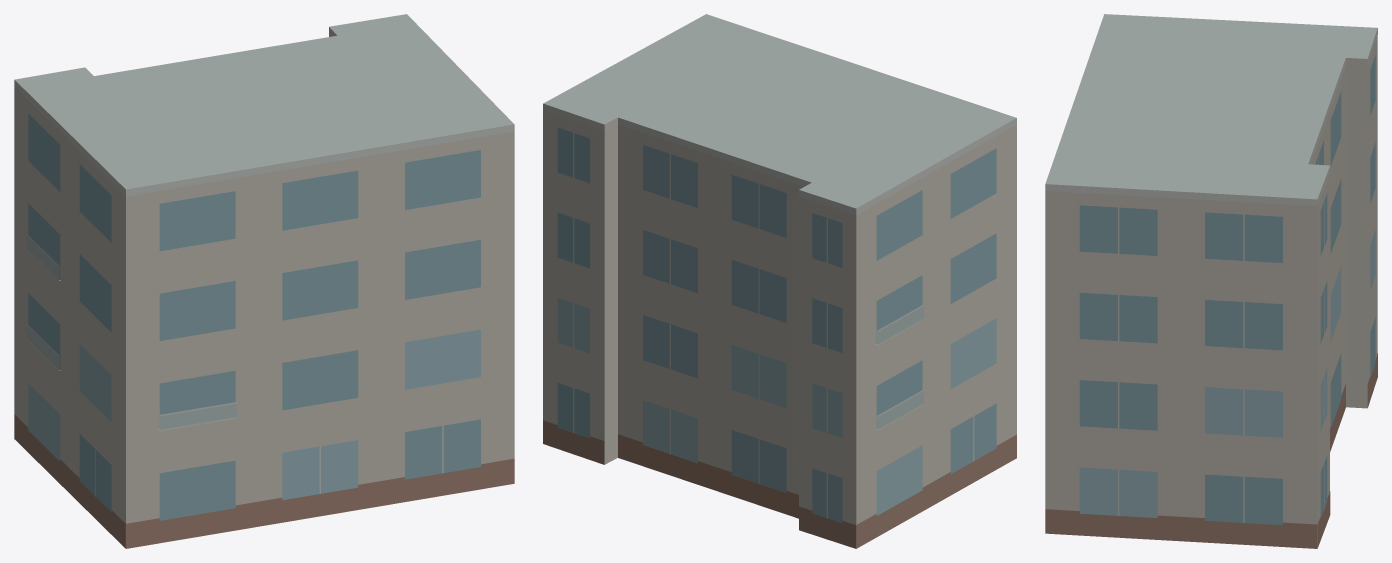
Rendered from survey-upis-32646810.glb.
3 renders of one model, left to right at view 1: azimuth 30°, elevation 25°; view 2: azimuth 150°, elevation 25°; view 3: azimuth 270°, elevation 25°, orthographic. The views are drawn at different scales.
Visible parts, largest first — view 1: survey-upis-32646810.tmp; view 2: survey-upis-32646810.tmp; view 3: survey-upis-32646810.tmp.
Boxes of the visible parts, x1=… form: survey-upis-32646810.tmp: x1=14, y1=14, x2=514, y2=548; survey-upis-32646810.tmp: x1=543, y1=14, x2=1016, y2=548; survey-upis-32646810.tmp: x1=1045, y1=14, x2=1377, y2=548.
Size of the model in its own units: 14.26 by 12.53 by 10.81.
